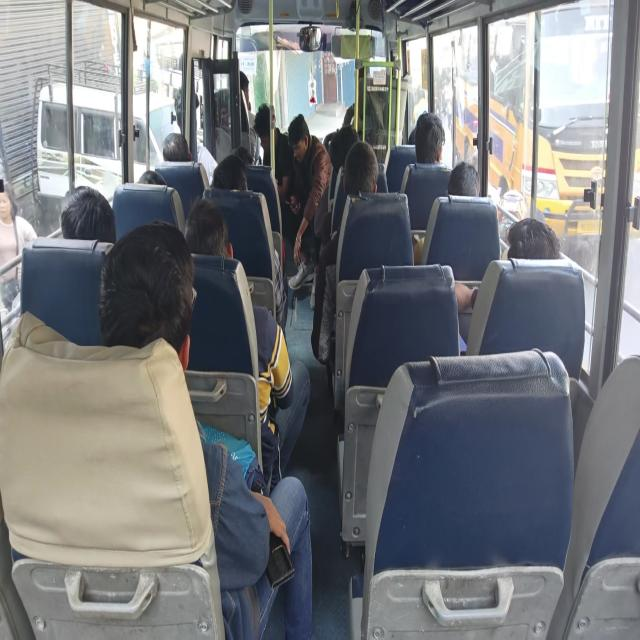person: (112, 258, 194, 362), (504, 212, 571, 273), (187, 202, 232, 270), (64, 182, 115, 242), (412, 108, 457, 165), (449, 159, 489, 210), (351, 54, 382, 110), (212, 164, 252, 202), (350, 156, 381, 203), (164, 134, 196, 171), (252, 102, 276, 146), (292, 120, 318, 160), (172, 89, 200, 126), (338, 132, 362, 160), (233, 72, 251, 105), (228, 142, 254, 160)
